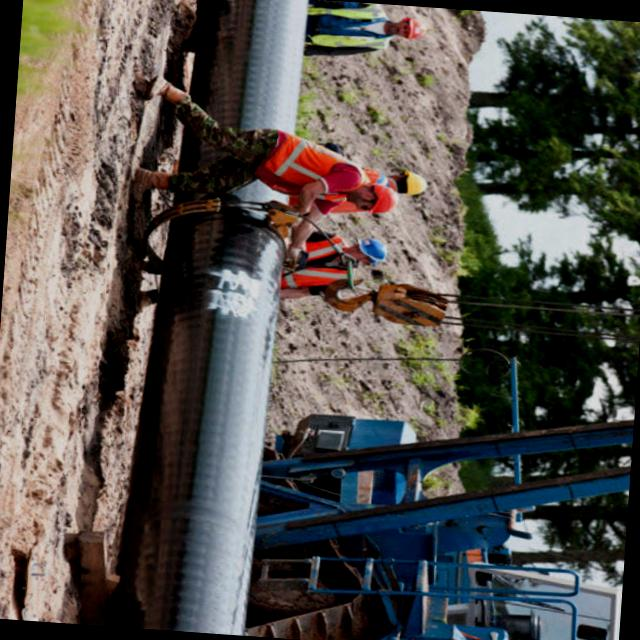gas: (111, 265, 294, 637), (194, 0, 314, 158)
